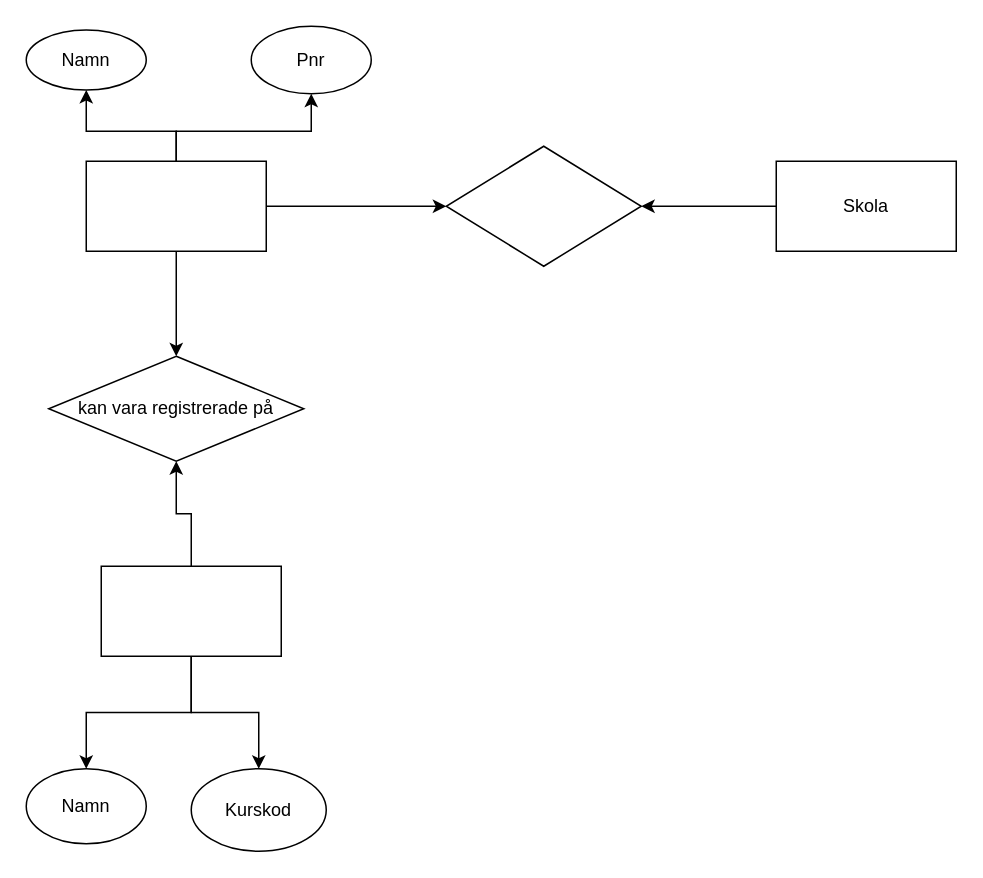
The diagram is 983 pixels wide and 878 high, and some of its shapes have lost their labels. Here are the shapes that lost their labels. From the top down, the box of each, then its label:
(85, 160, 266, 251): Student
(445, 145, 641, 266): studerar på
(100, 565, 281, 656): Kurs
